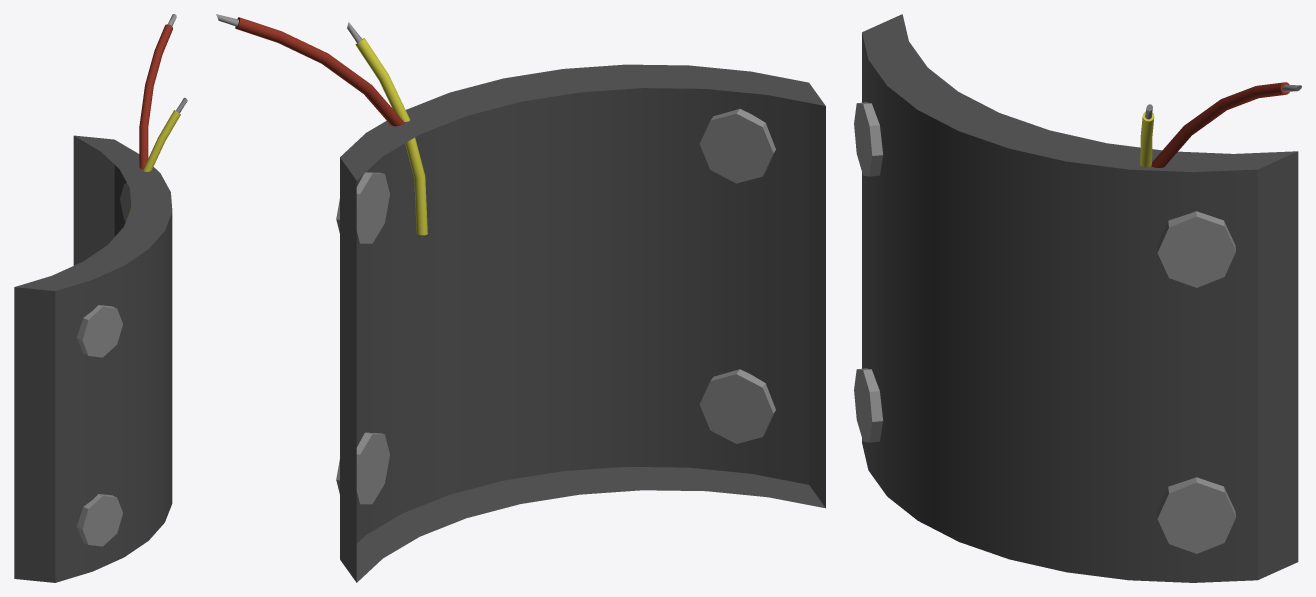
The model's file is rocketPlate2.fbx.
The picture shows the model from 3 angles, left to right: view 1: azimuth 30°, elevation 25°; view 2: azimuth 150°, elevation 25°; view 3: azimuth 270°, elevation 25°; orthographic projection. The views are drawn at different scales.
Parts seen in each view (by area): view 1: Rocket Plate 2; view 2: Rocket Plate 2; view 3: Rocket Plate 2.
Part boxes in pixels (<box>): Rocket Plate 2: <box>14,14,187,582</box>; Rocket Plate 2: <box>216,14,825,582</box>; Rocket Plate 2: <box>854,14,1301,582</box>.
Bounding box in the file's own units: 234 × 287 × 214.
